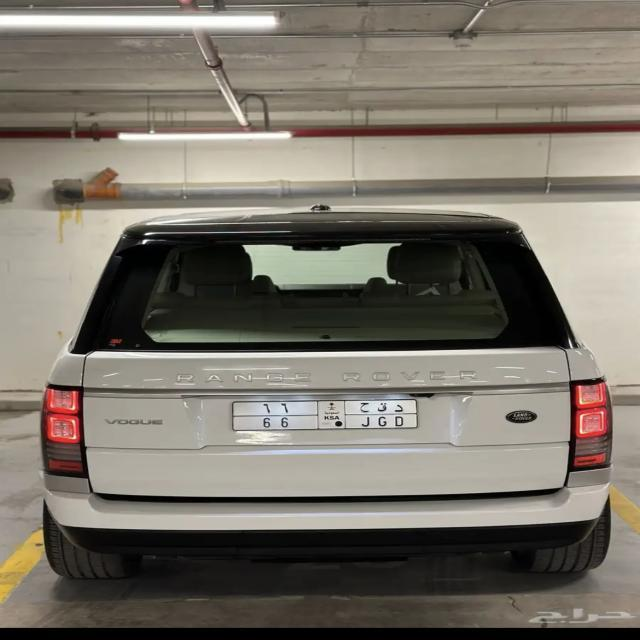license_plate: (230, 401, 420, 428)
